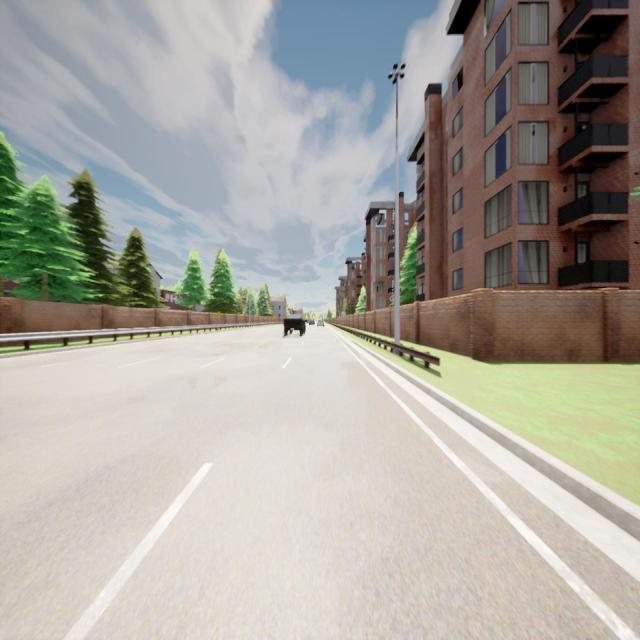Vehicle: (283, 314, 306, 338), (308, 318, 316, 326), (318, 318, 324, 328)
